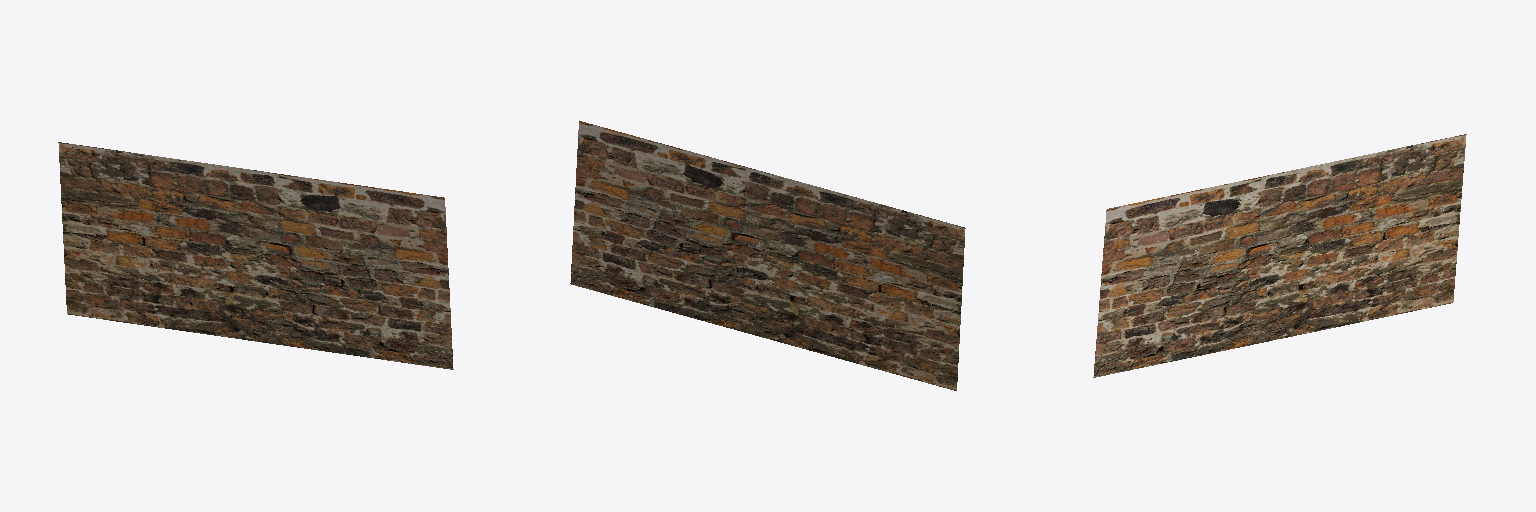
3 views of the same model, side by side, from view 1: azimuth 30°, elevation 25°; view 2: azimuth 210°, elevation 25°; view 3: azimuth 270°, elevation 25° (orthographic).
Parts seen in each view (by area): view 1: Plane; view 2: Plane; view 3: Plane.
Part boxes in pixels (bbox=[...]): Plane: bbox=[58, 142, 453, 369]; Plane: bbox=[570, 121, 965, 390]; Plane: bbox=[1093, 134, 1466, 377].
Size of the model in its own units: 2.59 by 2.3 by 4.01.
Materials: 1 (1 with a texture image).